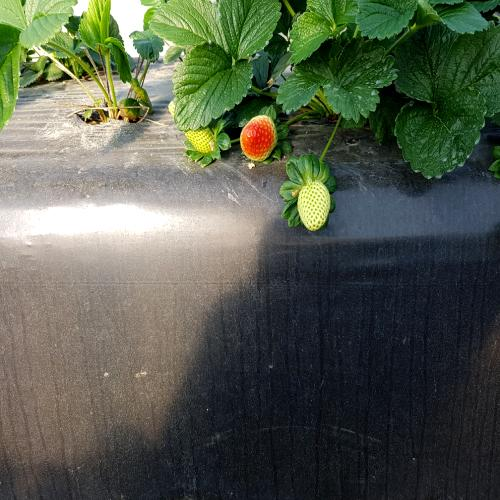partially-ripe: (241, 106, 276, 169)
